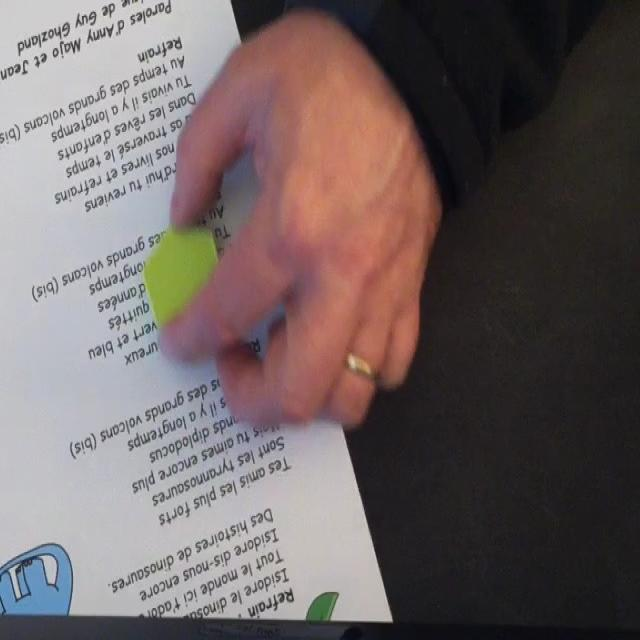hexagon: (141, 222, 230, 338)
